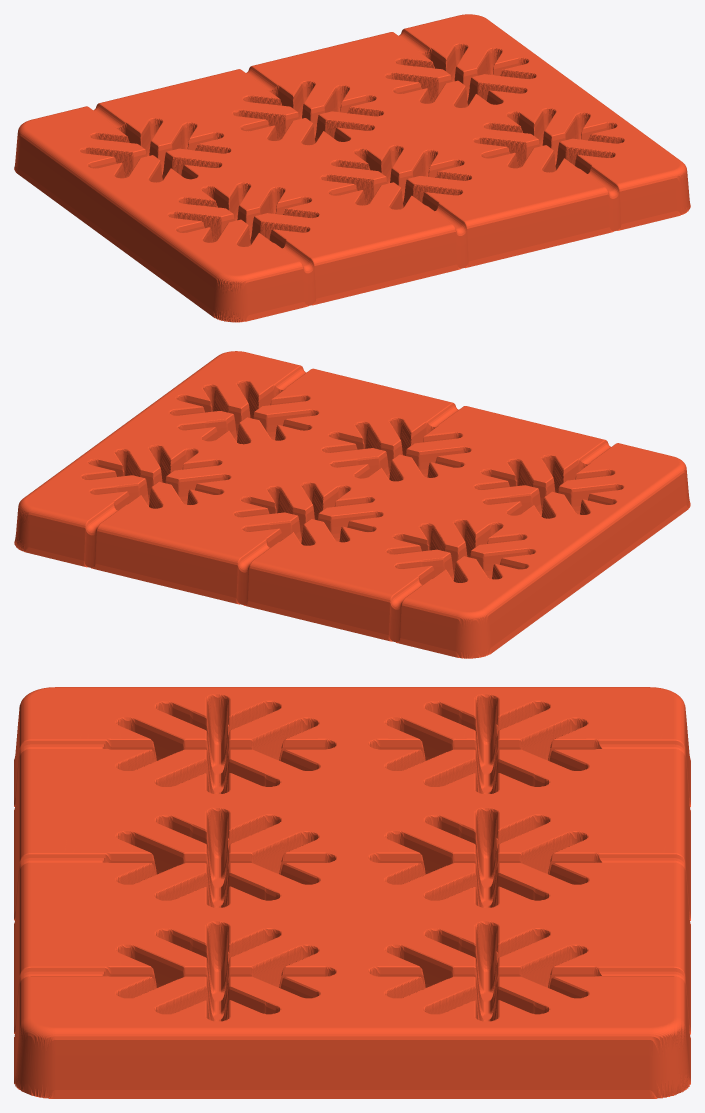
Rendered from mold.glb.
3 views of the same model, one above another, from view 1: azimuth 30°, elevation 25°; view 2: azimuth 150°, elevation 25°; view 3: azimuth 270°, elevation 25° (orthographic). The views are drawn at different scales.
Parts seen in each view (by area): view 1: geometry_0; view 2: geometry_0; view 3: geometry_0.
Part boxes in pixels (x1,y1,x2,y2): geometry_0: (14,14,690,322); geometry_0: (14,351,690,658); geometry_0: (14,687,690,1098).
Size of the model in its own units: 0.1824 by 0.0155 by 0.1477.
